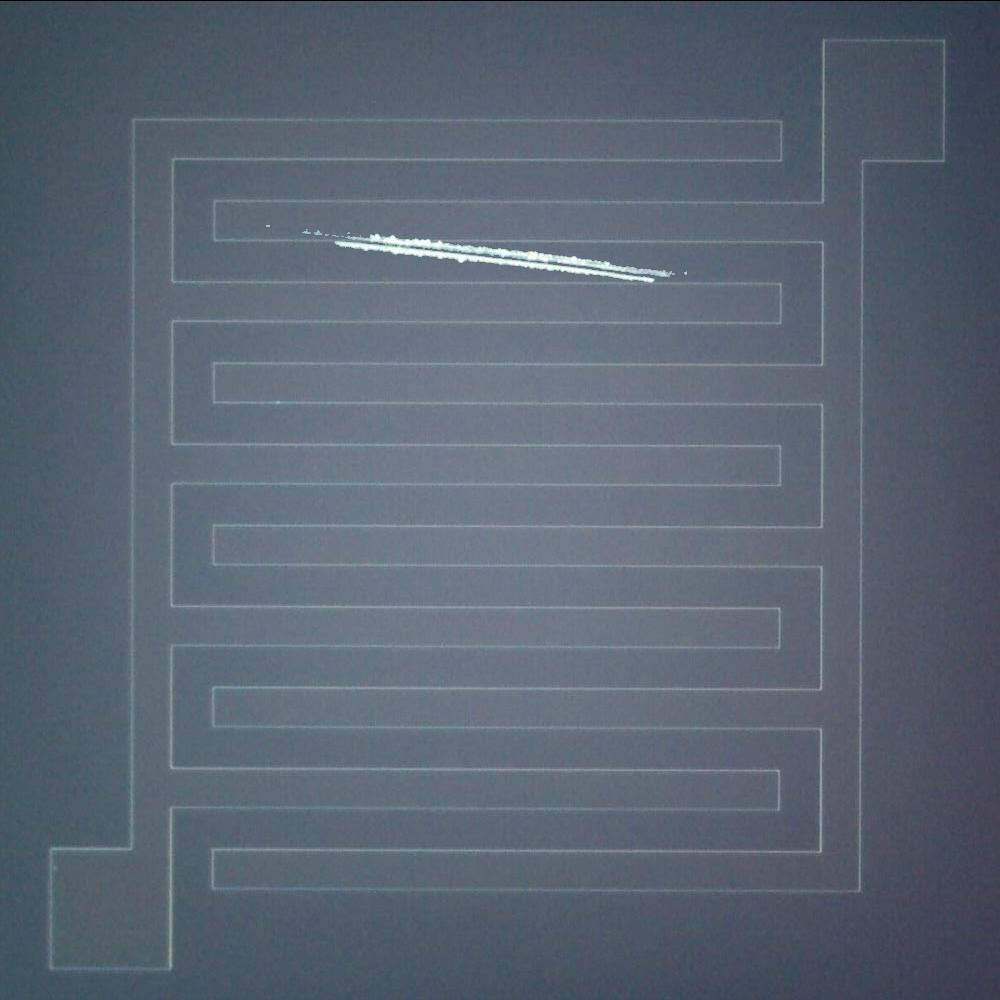scratch: (296, 224, 688, 294)
